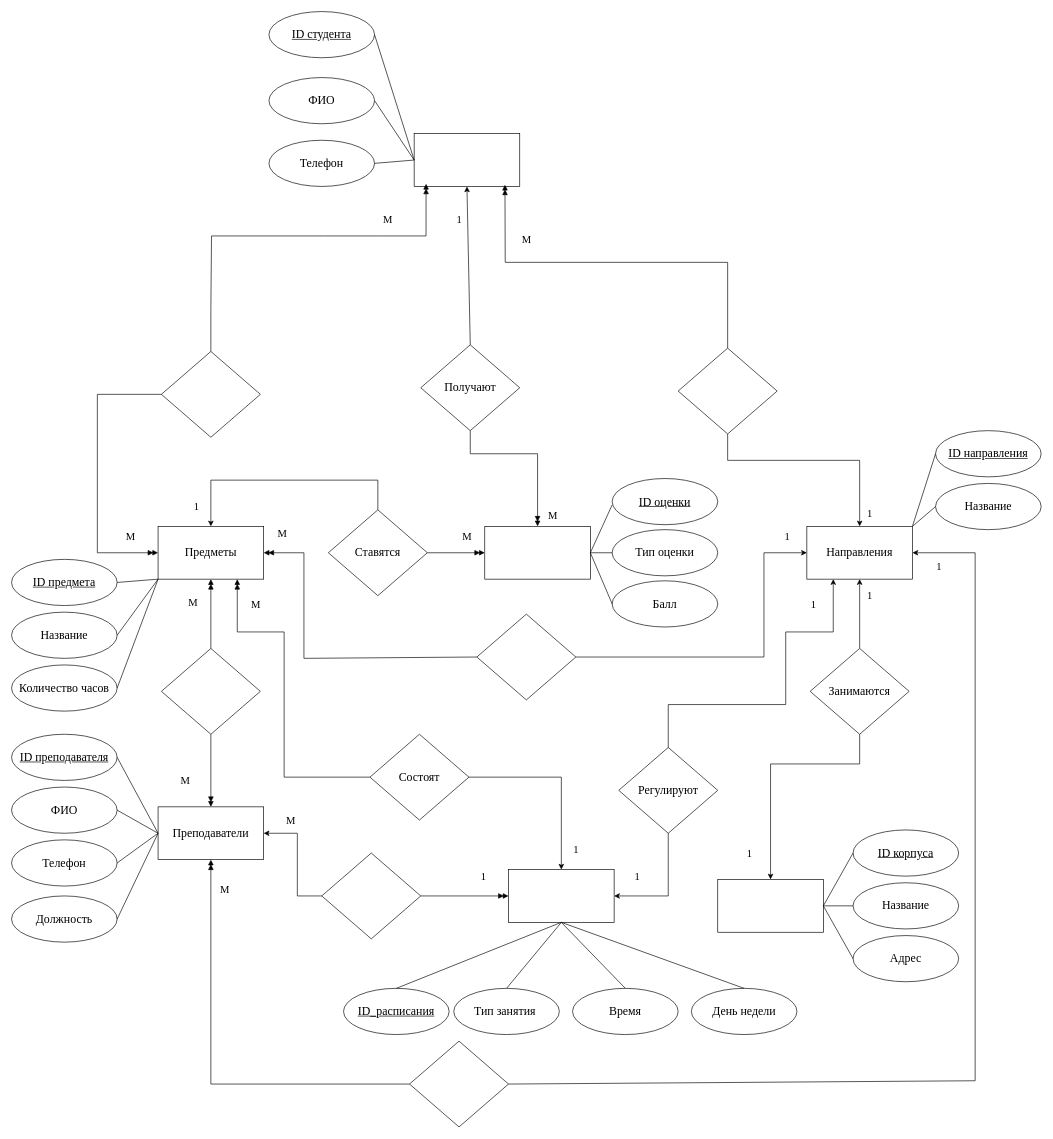
Image size: 1053x1139. Some labels were removed from this diagram. Here are the shapes that lost their labels. From the top down, the box of each, then its label:
(413, 133, 520, 186): Студенты
(161, 351, 260, 437): Изучают
(677, 347, 777, 434): Обучаются
(484, 526, 590, 579): Оценки
(476, 613, 576, 700): Содержат
(161, 648, 260, 734): Ведут
(321, 852, 421, 939): Используют
(508, 869, 614, 922): Расписания
(717, 879, 823, 932): Корпусы
(409, 1040, 509, 1127): Курируют
